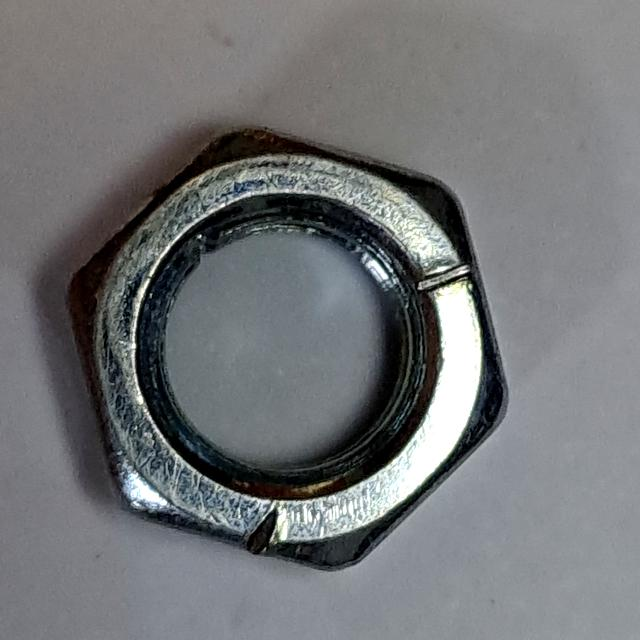Scratches: (55, 109, 527, 590)
